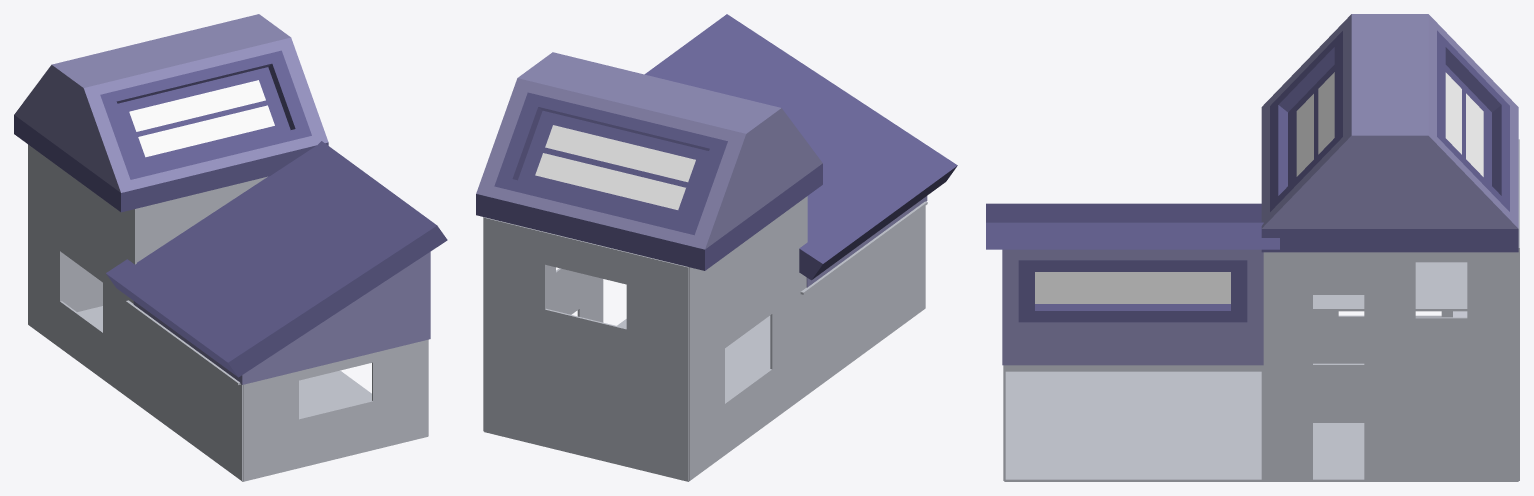
Rendered from house.fbx.
The picture shows the model from 3 angles, left to right: view 1: azimuth 30°, elevation 25°; view 2: azimuth 150°, elevation 25°; view 3: azimuth 270°, elevation 25°; orthographic projection. The views are drawn at different scales.
Parts seen in each view (by area): view 1: block (×14), roof_windowLarge, roof_windowGlassLarge; view 2: block (×14), roof_windowGlassLarge, roof_windowLarge; view 3: block (×14), roof_windowGlassLarge, roof_windowLarge.
Boxes of the visible parts, box(x1,y1,x2,y2) form: block (×14): box(28, 144, 428, 481); roof_windowLarge: box(106, 141, 447, 384); roof_windowGlassLarge: box(14, 14, 328, 212); block (×14): box(483, 196, 927, 481); roof_windowGlassLarge: box(476, 52, 822, 270); roof_windowLarge: box(644, 14, 957, 287); block (×14): box(1004, 252, 1518, 481); roof_windowGlassLarge: box(1261, 14, 1518, 252); roof_windowLarge: box(986, 203, 1279, 365).
Bounding box in the file's own units: 119 × 151 × 208.
